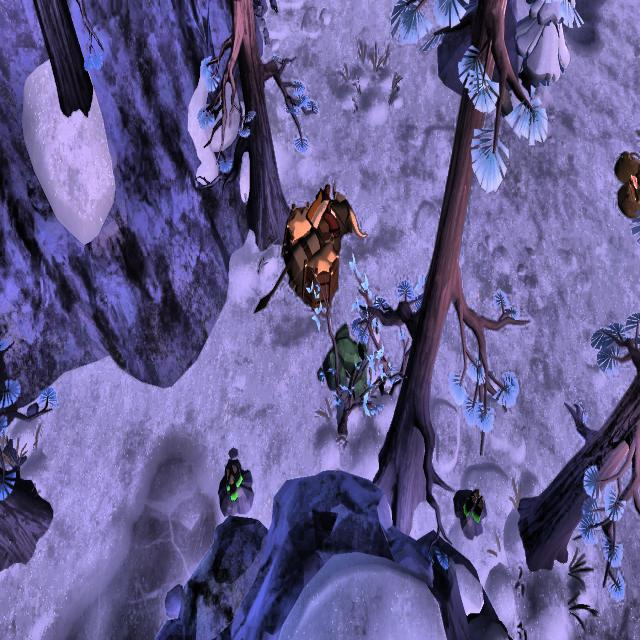ore_t3: (463, 484, 487, 530), (222, 456, 244, 503)
rock_t3: (318, 322, 371, 405)
